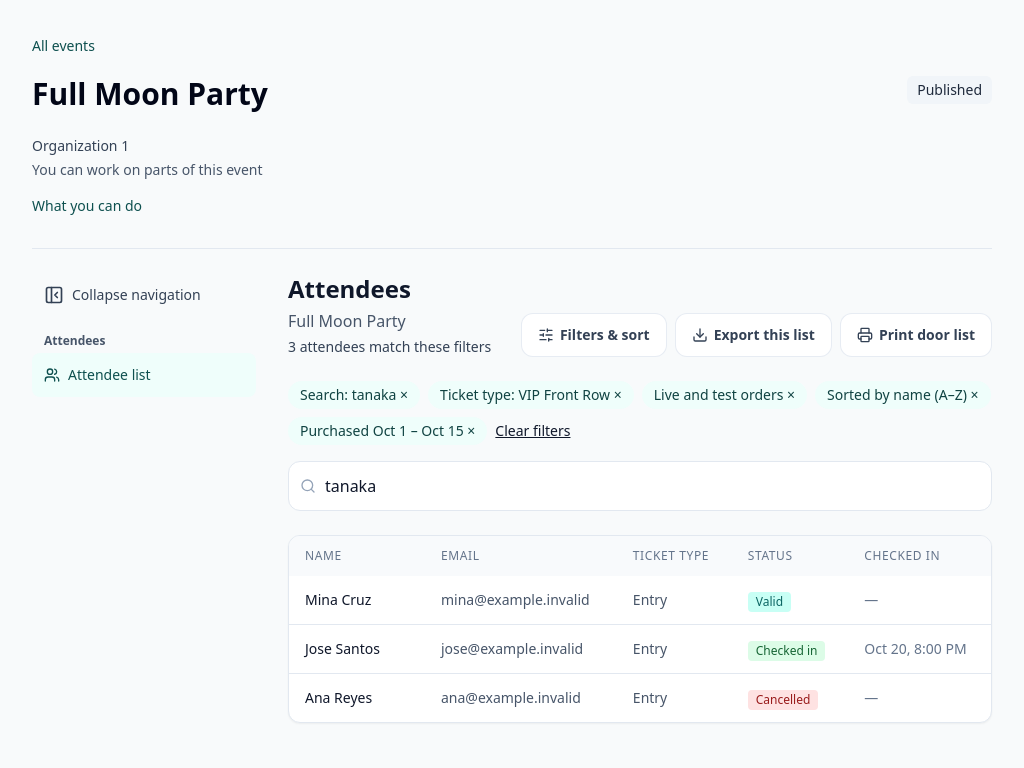
Test case: sales list controls › shows human filter chips, hides defaults, and keeps machine values in the URL
Click the button "Sorted by name (A–Z) ×" at (903, 395), box [815,381,990,409]
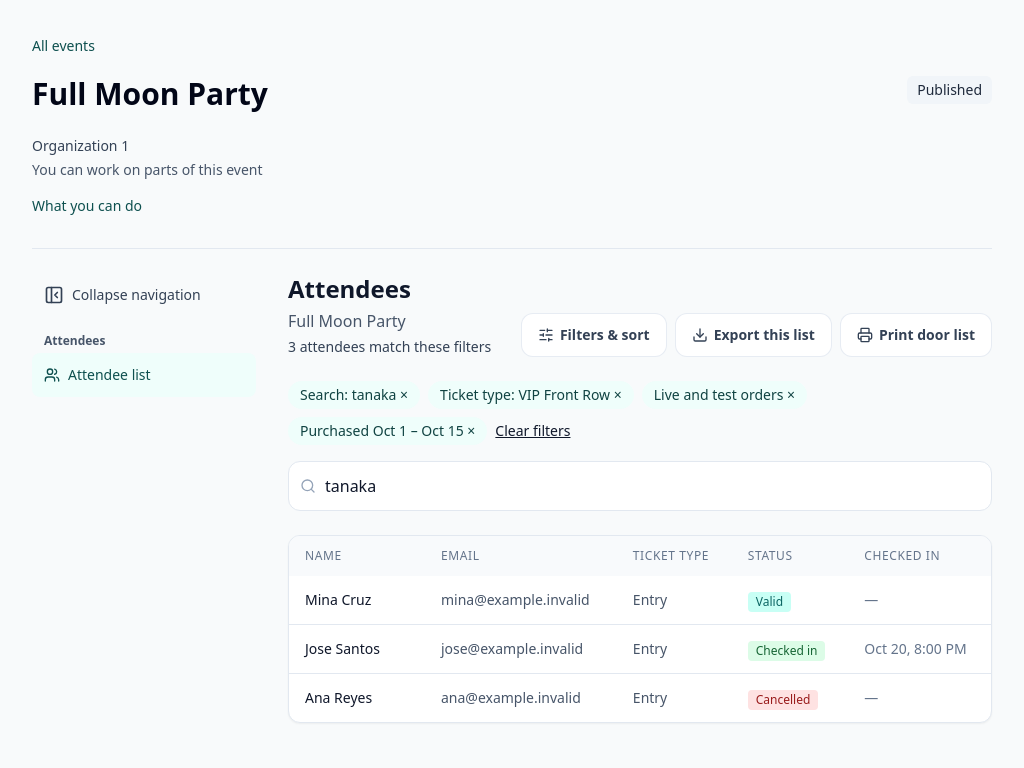
Check: the button "Sorted by" is gone
